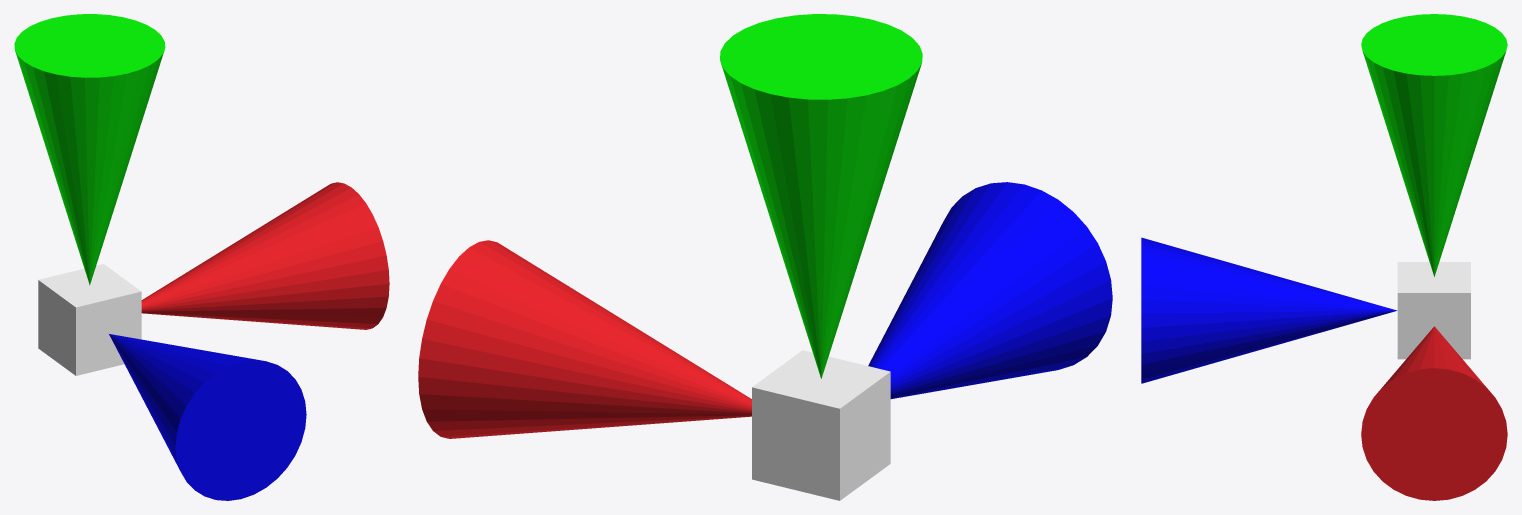
File: 3dind.obj
3 views of the same model, side by side, from view 1: azimuth 30°, elevation 25°; view 2: azimuth 150°, elevation 25°; view 3: azimuth 270°, elevation 25° (orthographic). The views are drawn at different scales.
Parts seen in each view (by area): view 1: Cone.002, Cone, Cone.001, Cube_Cube.001; view 2: Cone.002, Cone, Cone.001, Cube_Cube.001; view 3: Cone.002, Cone.001, Cone, Cube_Cube.001.
Part boxes in pixels (<box>): Cone.002: <box>14,14,165,285</box>; Cone: <box>141,182,389,329</box>; Cone.001: <box>109,334,306,500</box>; Cube_Cube.001: <box>38,264,141,375</box>; Cone.002: <box>720,14,922,378</box>; Cone: <box>418,240,751,438</box>; Cone.001: <box>868,182,1112,398</box>; Cube_Cube.001: <box>752,350,890,500</box>; Cone.002: <box>1361,14,1507,276</box>; Cone.001: <box>1141,237,1397,383</box>; Cone: <box>1361,326,1507,500</box>; Cube_Cube.001: <box>1397,262,1470,359</box>.
Size of the model in its own units: 5 by 5 by 5.
